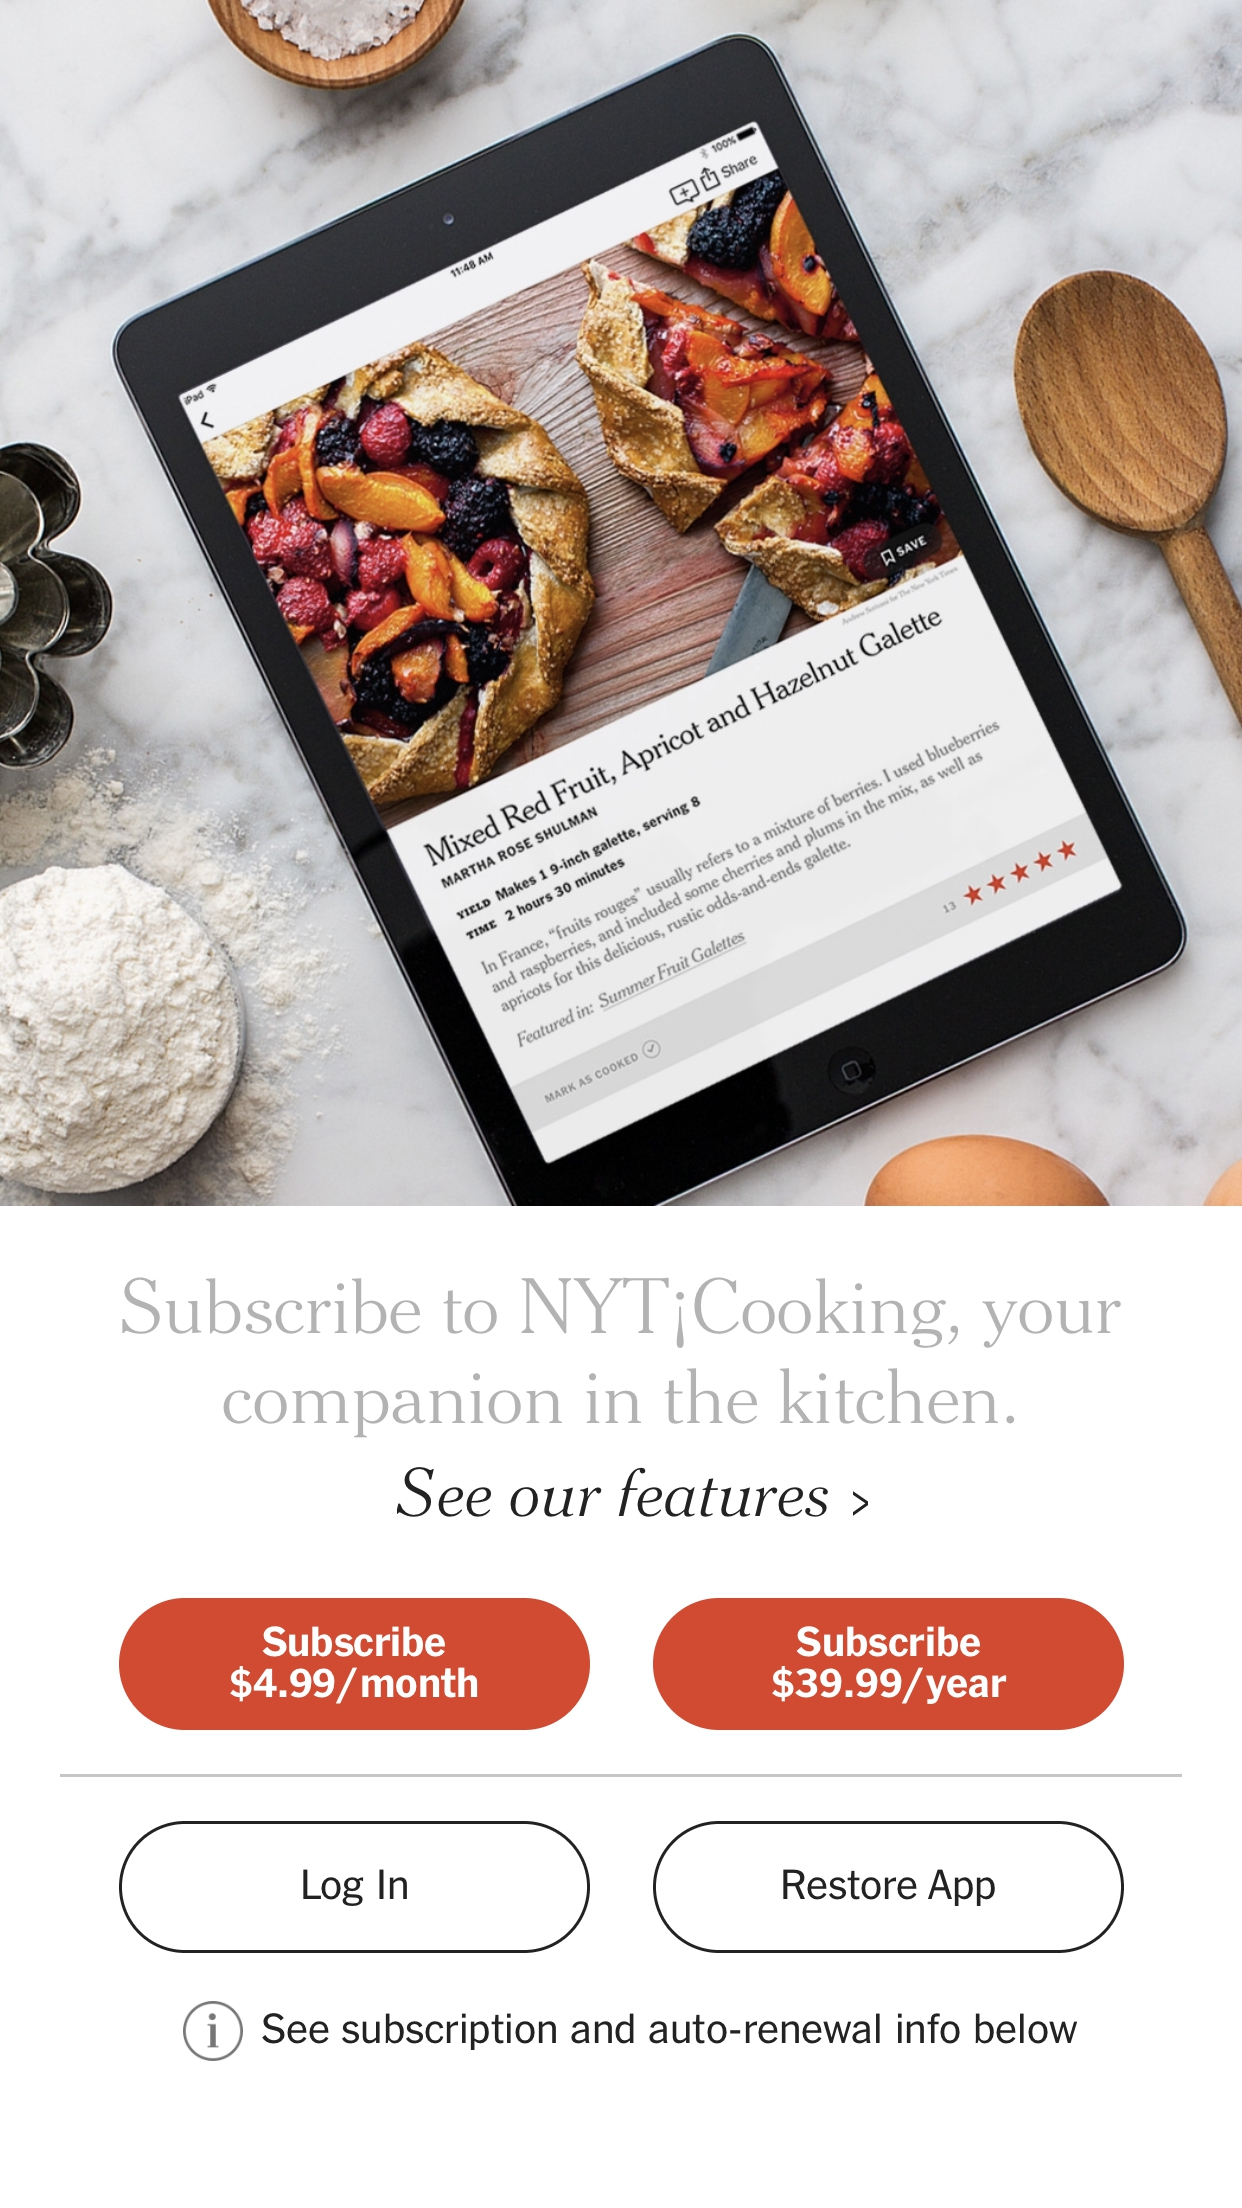Icon: (183, 2000, 244, 2062), (852, 1491, 869, 1516)
Image: (2, 2, 1242, 1207)
Text: (121, 1275, 1122, 1439), (262, 2012, 1078, 2050), (396, 1466, 830, 1520)
TextButton: (118, 1820, 591, 1955), (654, 1820, 1125, 1955), (118, 1598, 591, 1730), (654, 1598, 1125, 1730)
